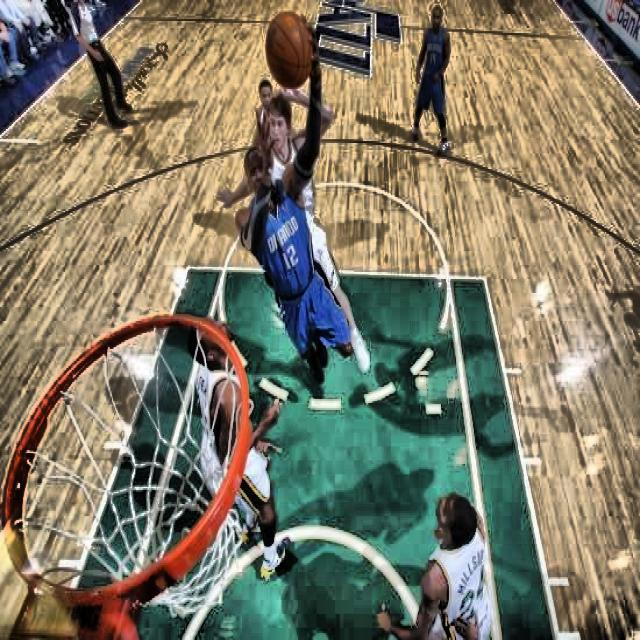board: (266, 10, 312, 90)
